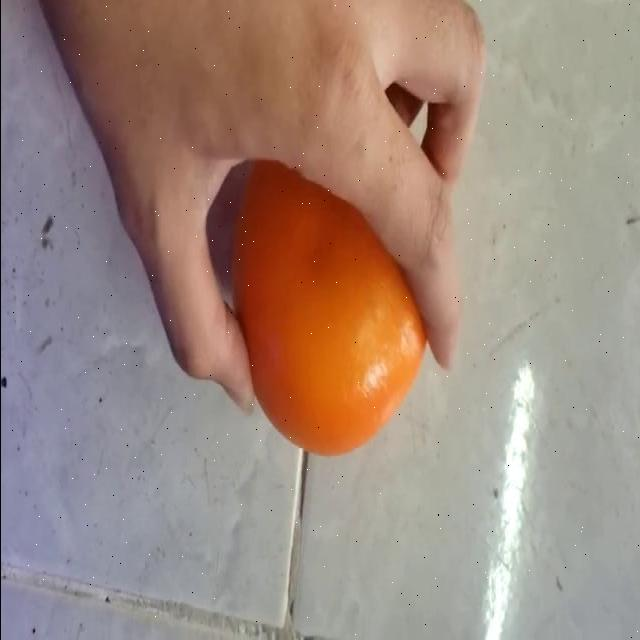Orange: (231, 158, 430, 457)
